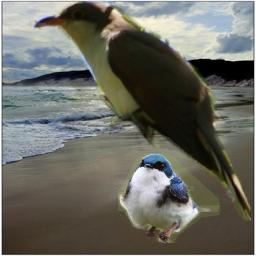Cuckoo: (29, 1, 251, 221)
Swallow: (118, 153, 220, 243)
